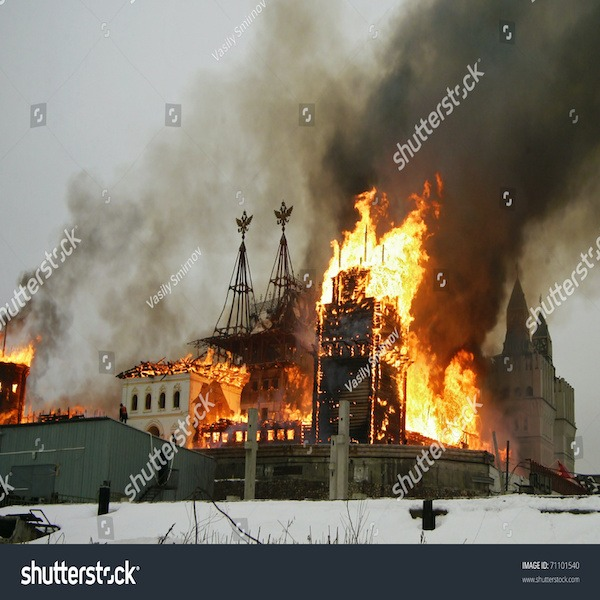fire: (321, 182, 438, 303), (397, 351, 486, 447), (1, 338, 40, 370), (290, 371, 312, 422)
